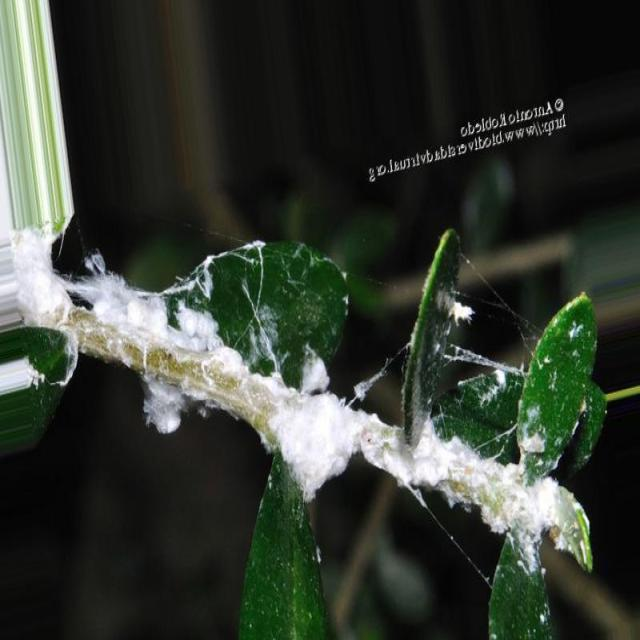Psyllid: (15, 230, 619, 578)
